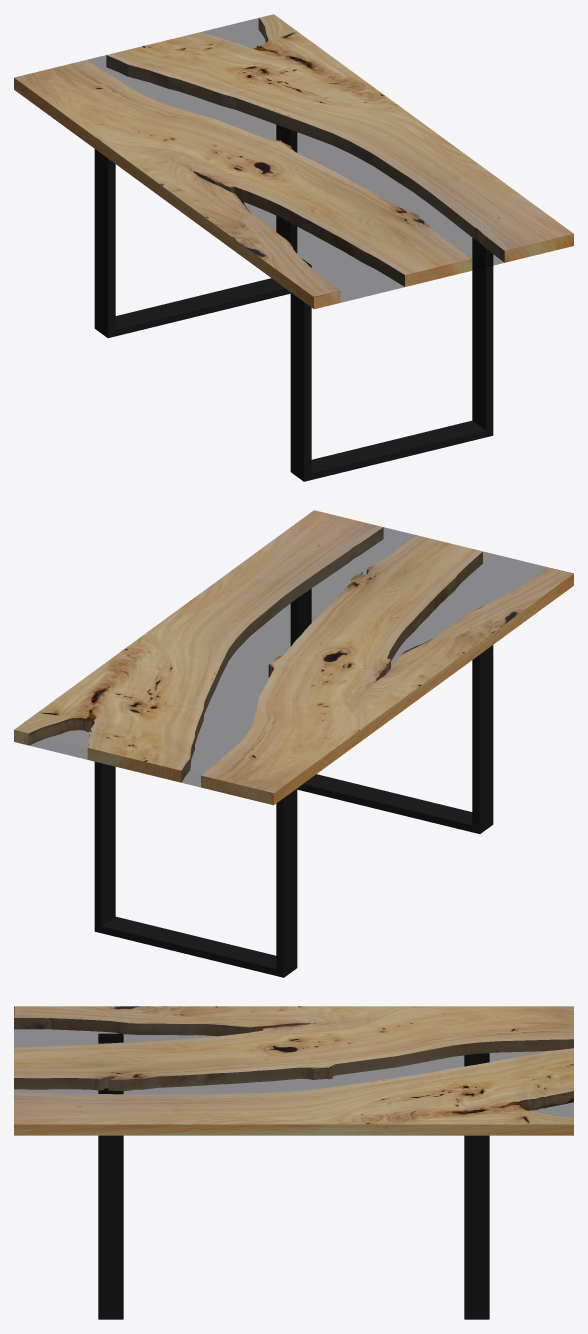
The model's file is stol.glb.
3 views of the same model, one above another, from view 1: azimuth 30°, elevation 25°; view 2: azimuth 150°, elevation 25°; view 3: azimuth 270°, elevation 25° (orthographic). The views are drawn at different scales.
Parts seen in each view (by area): view 1: table, Cube; view 2: table, Cube; view 3: table, Cube.
Part boxes in pixels (x1,y1,x2,y2): table: (14, 14, 573, 309); Cube: (94, 125, 493, 481); table: (14, 510, 573, 805); Cube: (94, 589, 493, 977); table: (14, 1006, 573, 1135); Cube: (98, 1033, 489, 1319).
Size of the model in its own units: 0.9 by 0.7498 by 1.8.
Materials: 3 (1 with a texture image).
